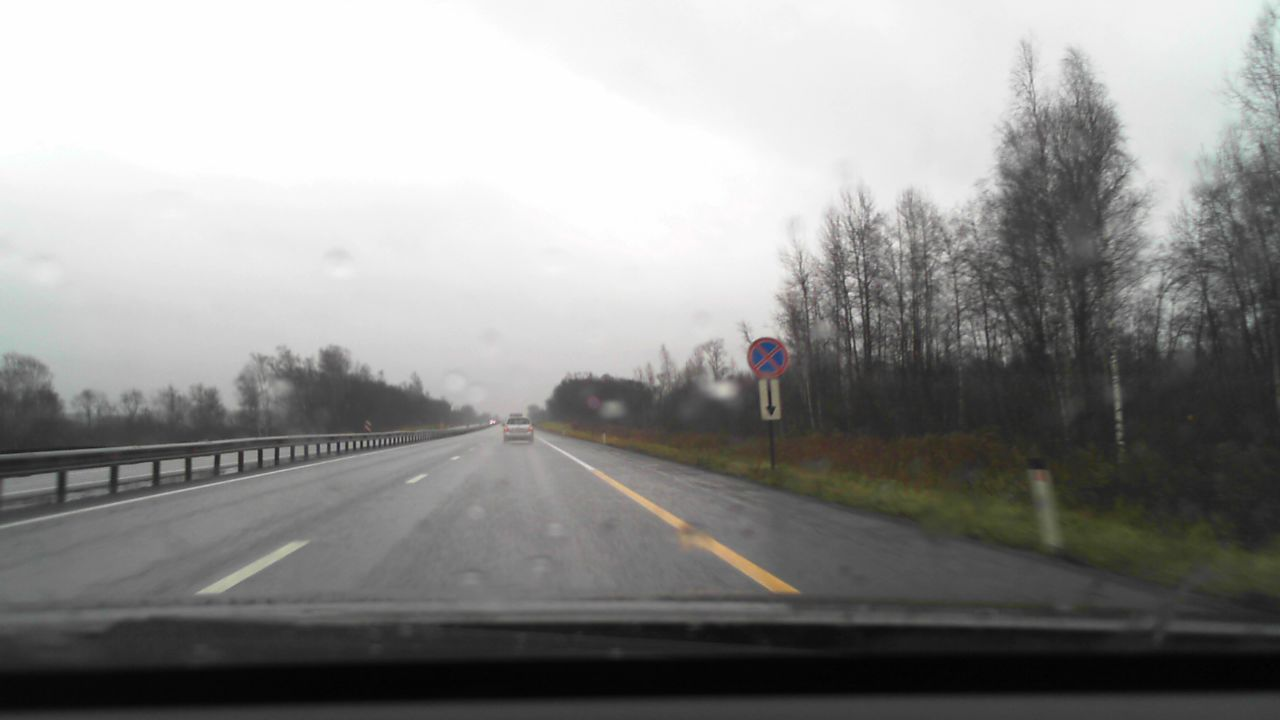No Parking: (747, 337, 787, 378)
